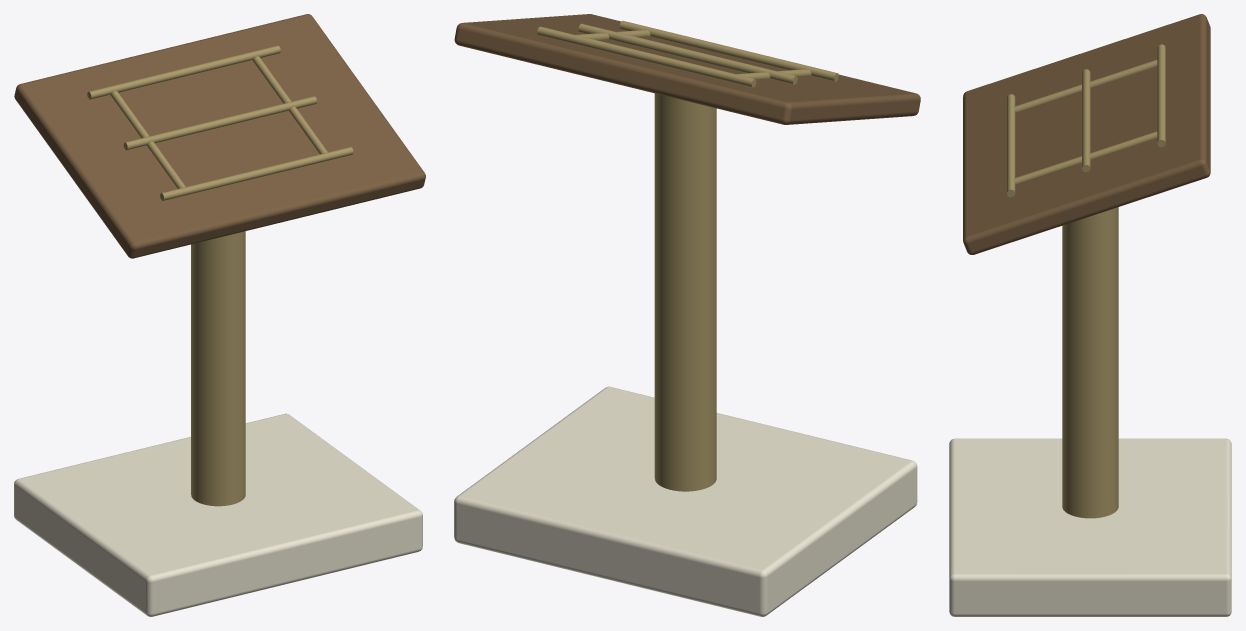
File: water-clock-garden-and-hydraulic-puzzles-hydraulic-dia-11ba4809__31966.glb
3 views of the same model, side by side, from view 1: azimuth 30°, elevation 25°; view 2: azimuth 150°, elevation 25°; view 3: azimuth 270°, elevation 25° (orthographic). The views are drawn at different scales.
Parts seen in each view (by area): view 1: hydraulic-diagram-lectern; view 2: hydraulic-diagram-lectern; view 3: hydraulic-diagram-lectern.
Part boxes in pixels (x1=…): hydraulic-diagram-lectern: x1=14, y1=14, x2=425, y2=616; hydraulic-diagram-lectern: x1=454, y1=14, x2=920, y2=616; hydraulic-diagram-lectern: x1=949, y1=14, x2=1231, y2=616.
Bounding box in the file's own units: 0.75 × 1.08 × 0.6.
